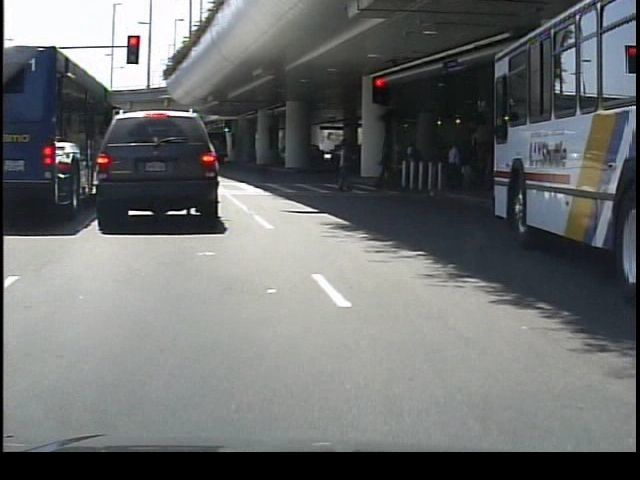person: (330, 134, 357, 194), (440, 137, 467, 195), (374, 135, 401, 191)
